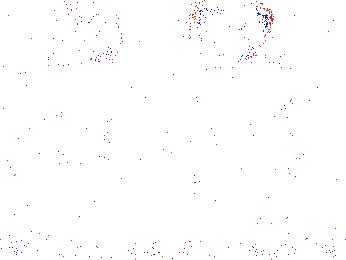moon jellyfish: (244, 95, 338, 160), (189, 1, 273, 70), (134, 81, 190, 165), (8, 1, 82, 64), (70, 9, 126, 63)
